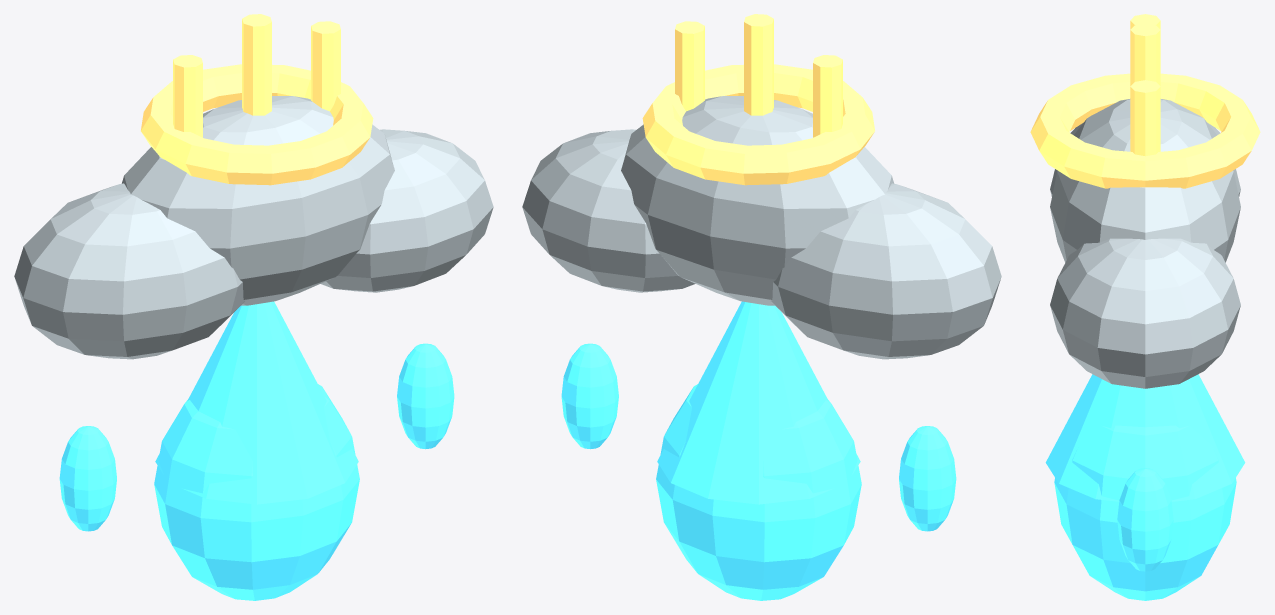
The model's file is water-drop.glb.
3 renders of one model, left to right at view 1: azimuth 30°, elevation 25°; view 2: azimuth 150°, elevation 25°; view 3: azimuth 270°, elevation 25°, orthographic.
Visible parts, largest first — view 1: Water Drop cloud, Water Drop cloud.001, Water Drop teardrop bulb, Water Drop pointed tip, Water Drop cloud.002, Leader crown band, Water Drop rain bead.001, Water Drop rain bead, Leader crown point.001, Leader crown point.002, Leader crown point; view 2: Water Drop cloud, Water Drop cloud.001, Water Drop teardrop bulb, Water Drop pointed tip, Water Drop cloud.002, Leader crown band, Water Drop rain bead.001, Water Drop rain bead, Leader crown point.001, Leader crown point.002, Leader crown point; view 3: Water Drop cloud.002, Water Drop teardrop bulb, Water Drop cloud.001, Leader crown band, Water Drop pointed tip, Water Drop rain bead.001, Leader crown point.002, Leader crown point.001.
Part boxes in pixels (box(x1,y1,x2,y2)): Water Drop cloud: box(14, 183, 244, 359); Water Drop cloud.001: box(122, 96, 394, 305); Water Drop teardrop bulb: box(154, 384, 359, 600); Water Drop pointed tip: box(155, 301, 358, 504); Water Drop cloud.002: box(320, 129, 493, 292); Leader crown band: box(141, 64, 373, 185); Water Drop rain bead.001: box(397, 343, 454, 449); Water Drop rain bead: box(59, 426, 116, 531); Leader crown point.001: box(242, 14, 271, 115); Leader crown point.002: box(311, 21, 340, 111); Leader crown point: box(173, 55, 202, 137); Water Drop cloud: box(771, 183, 1001, 359); Water Drop cloud.001: box(621, 96, 893, 305); Water Drop teardrop bulb: box(656, 384, 861, 600); Water Drop pointed tip: box(657, 301, 860, 504); Water Drop cloud.002: box(522, 129, 695, 292); Leader crown band: box(642, 64, 874, 185); Water Drop rain bead.001: box(561, 343, 618, 449); Water Drop rain bead: box(899, 426, 956, 531); Leader crown point.001: box(744, 14, 773, 115); Leader crown point.002: box(675, 21, 704, 111); Leader crown point: box(813, 55, 842, 137); Water Drop cloud.002: box(1050, 238, 1240, 388); Water Drop teardrop bulb: box(1054, 425, 1236, 600); Water Drop cloud.001: box(1050, 99, 1240, 262); Leader crown band: box(1030, 73, 1260, 188); Water Drop pointed tip: box(1045, 374, 1245, 501); Water Drop rain bead.001: box(1117, 468, 1173, 571); Leader crown point.002: box(1130, 80, 1160, 156); Leader crown point.001: box(1130, 23, 1160, 85).
Bounding box in the file's own units: 1.2 × 1.43 × 0.53.
